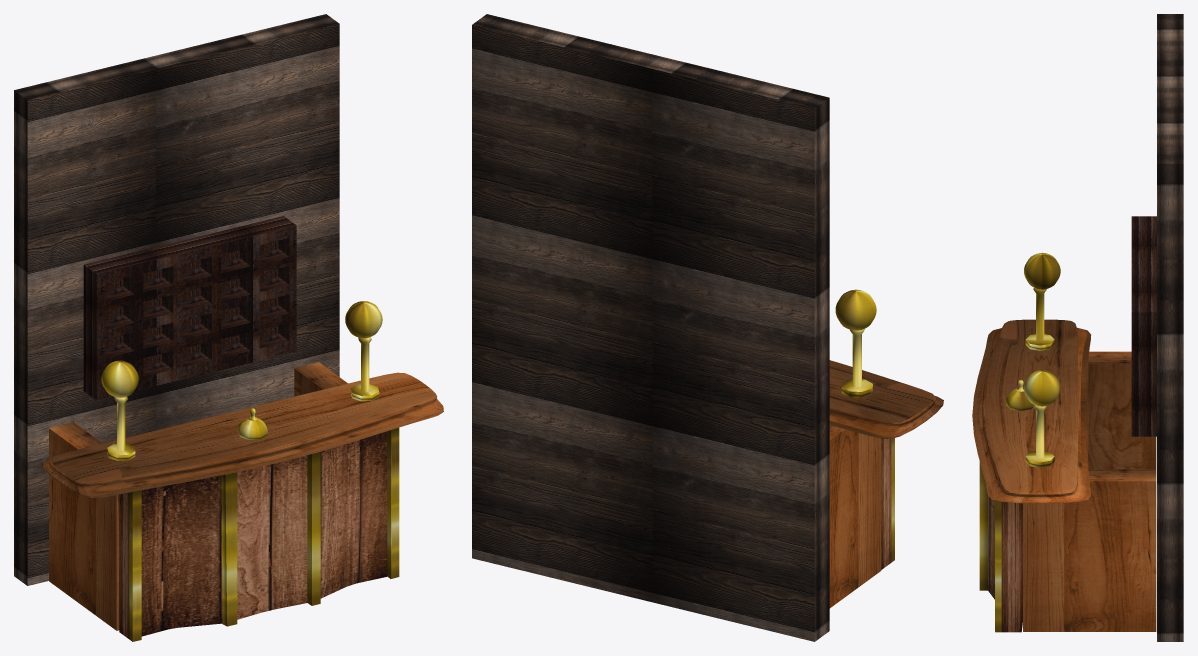
The model's file is recepcion.fbx.
3 views of the same model, side by side, from view 1: azimuth 30°, elevation 25°; view 2: azimuth 150°, elevation 25°; view 3: azimuth 270°, elevation 25° (orthographic). The views are drawn at different scales.
Visible parts, largest first — view 1: Cube.011, Cube.009, Cube.014, Cube.013, Cube.010, Cylinder.046, Cylinder.045; view 2: Cube.011, Cube.010, Cube.013, Cylinder.046, Cube.009; view 3: Cube.010, Cube.011, Cube.013, Cube.014, Cube.009, Cylinder.046, Cylinder.045.
Boxes of the visible parts, x1,y1,x2,y2 form: Cube.011: [14, 14, 339, 585]; Cube.009: [119, 427, 399, 641]; Cube.014: [83, 216, 296, 400]; Cube.013: [42, 372, 443, 497]; Cube.010: [49, 362, 347, 630]; Cylinder.046: [101, 301, 382, 460]; Cylinder.045: [238, 408, 267, 439]; Cube.011: [472, 14, 829, 641]; Cube.010: [829, 425, 881, 608]; Cube.013: [829, 360, 943, 438]; Cylinder.046: [835, 289, 876, 397]; Cube.009: [881, 438, 894, 569]; Cube.010: [1023, 351, 1156, 631]; Cube.011: [1157, 14, 1183, 641]; Cube.013: [972, 319, 1091, 503]; Cube.014: [1131, 216, 1156, 436]; Cube.009: [979, 462, 1022, 632]; Cylinder.046: [1024, 252, 1060, 467]; Cylinder.045: [1005, 380, 1033, 410].
Size of the model in its own units: 1885 by 2374 by 949.
